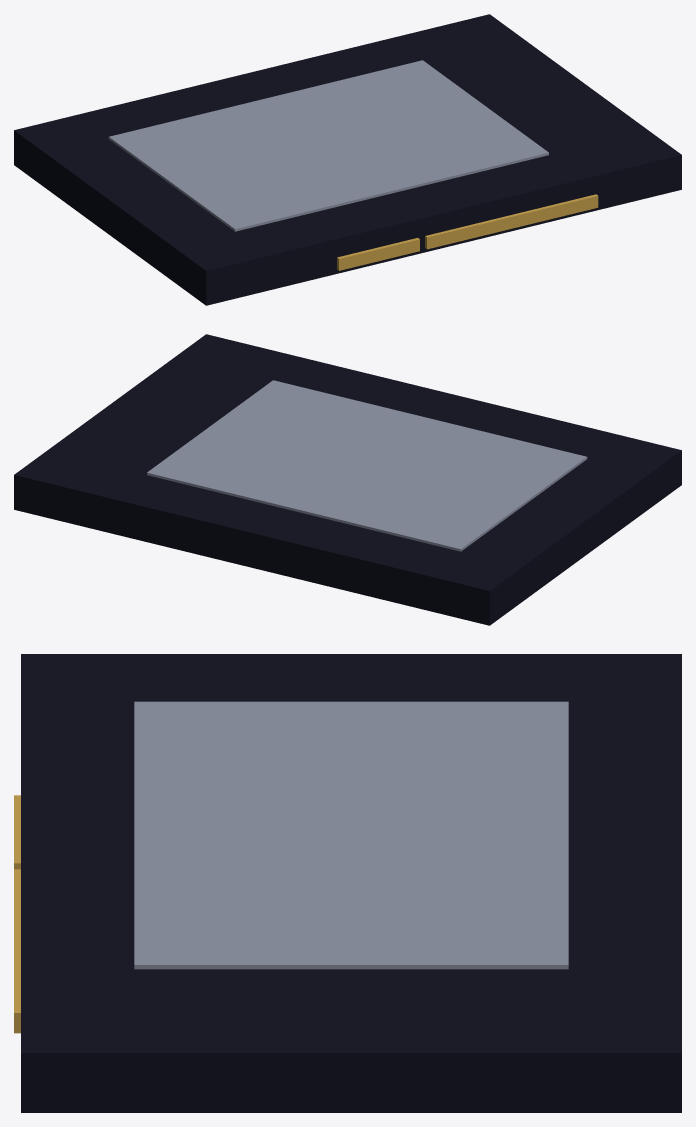
The model's file is ssd-25.glb.
The picture shows the model from 3 angles, top to bottom: view 1: azimuth 30°, elevation 25°; view 2: azimuth 150°, elevation 25°; view 3: azimuth 270°, elevation 25°; orthographic projection. The views are drawn at different scales.
Parts seen in each view (by area): view 1: casing, label, sata_connectors; view 2: casing, label; view 3: casing, label, sata_connectors.
Boxes of the visible parts, x1=… form: casing: x1=14, y1=14, x2=681, y2=305; label: x1=108, y1=60, x2=548, y2=231; sata_connectors: x1=337, y1=194, x2=598, y2=270; casing: x1=14, y1=334, x2=681, y2=625; label: x1=147, y1=380, x2=587, y2=551; casing: x1=21, y1=654, x2=681, y2=1112; label: x1=134, y1=701, x2=568, y2=969; sata_connectors: x1=14, y1=795, x2=20, y2=1033.
Bounding box in the file's own units: 100 × 7.5 × 70.75.
